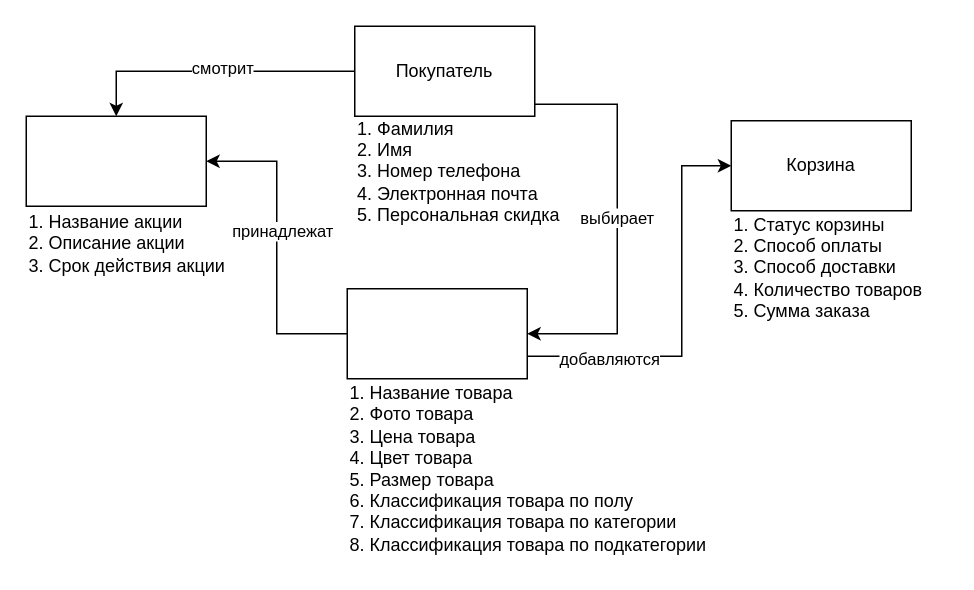
This 974x590 diagram has some shape labels left out. The shapes that lost their labels are listed below. From the top down, each one's box as (x1, y1, x2, y2) in pixels, then its label:
(25, 115, 206, 206): Лучшие акции
(346, 287, 527, 379): Товары
